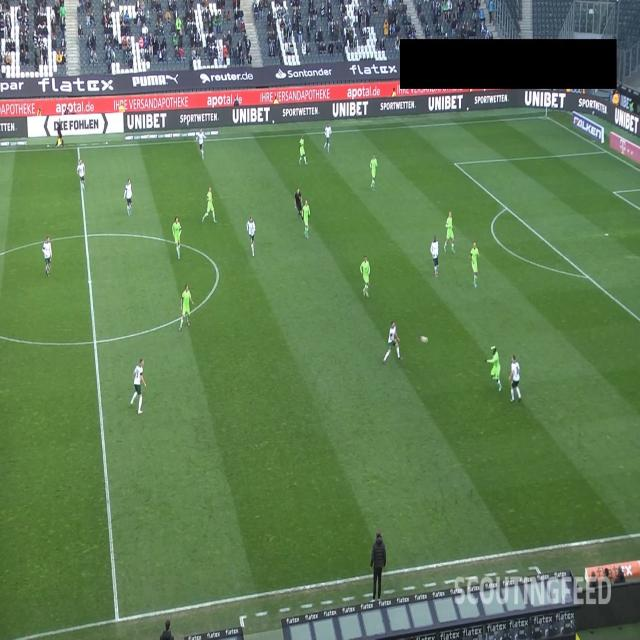ball: (419, 334, 428, 344)
